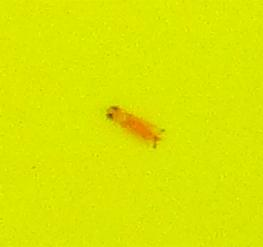Hemiptera: (100, 100, 163, 147)
